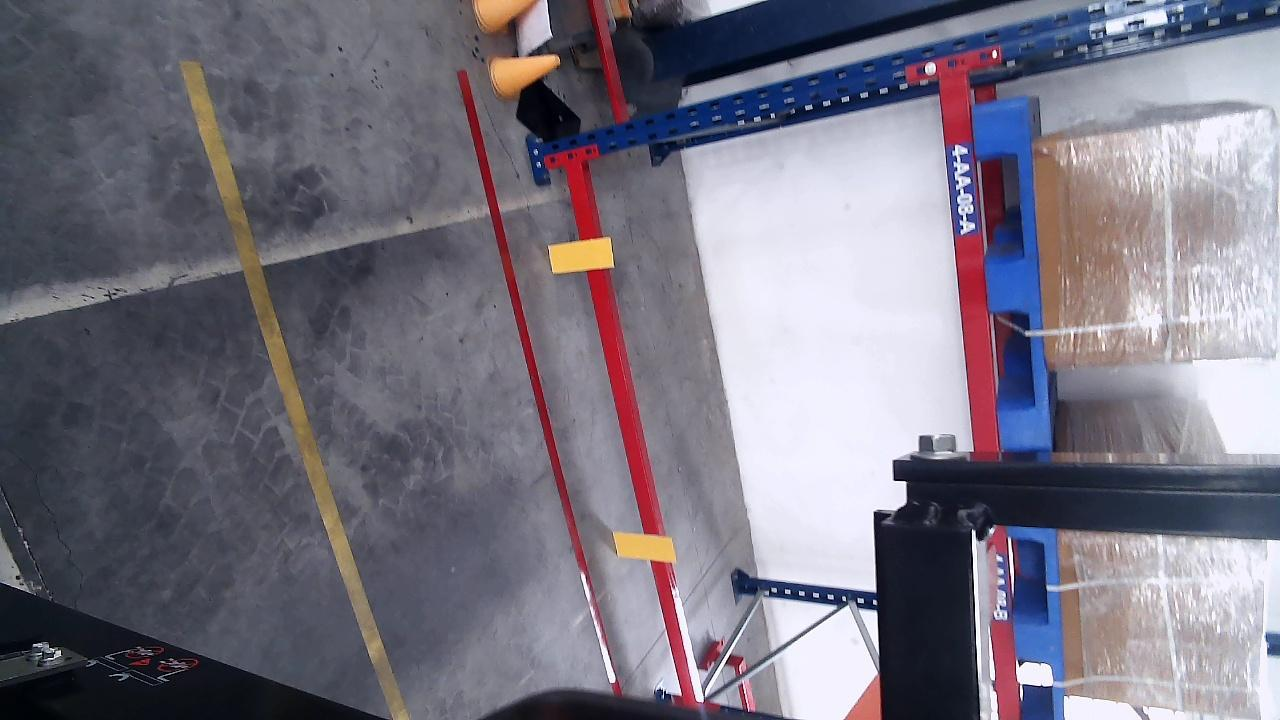h_rack: (562, 163, 701, 701), (941, 87, 999, 452)
orange_strip: (548, 237, 613, 276), (609, 531, 677, 562)
red_line: (457, 68, 622, 697)
small_pallet: (971, 99, 1050, 447)
yellow_line: (180, 60, 406, 720)
